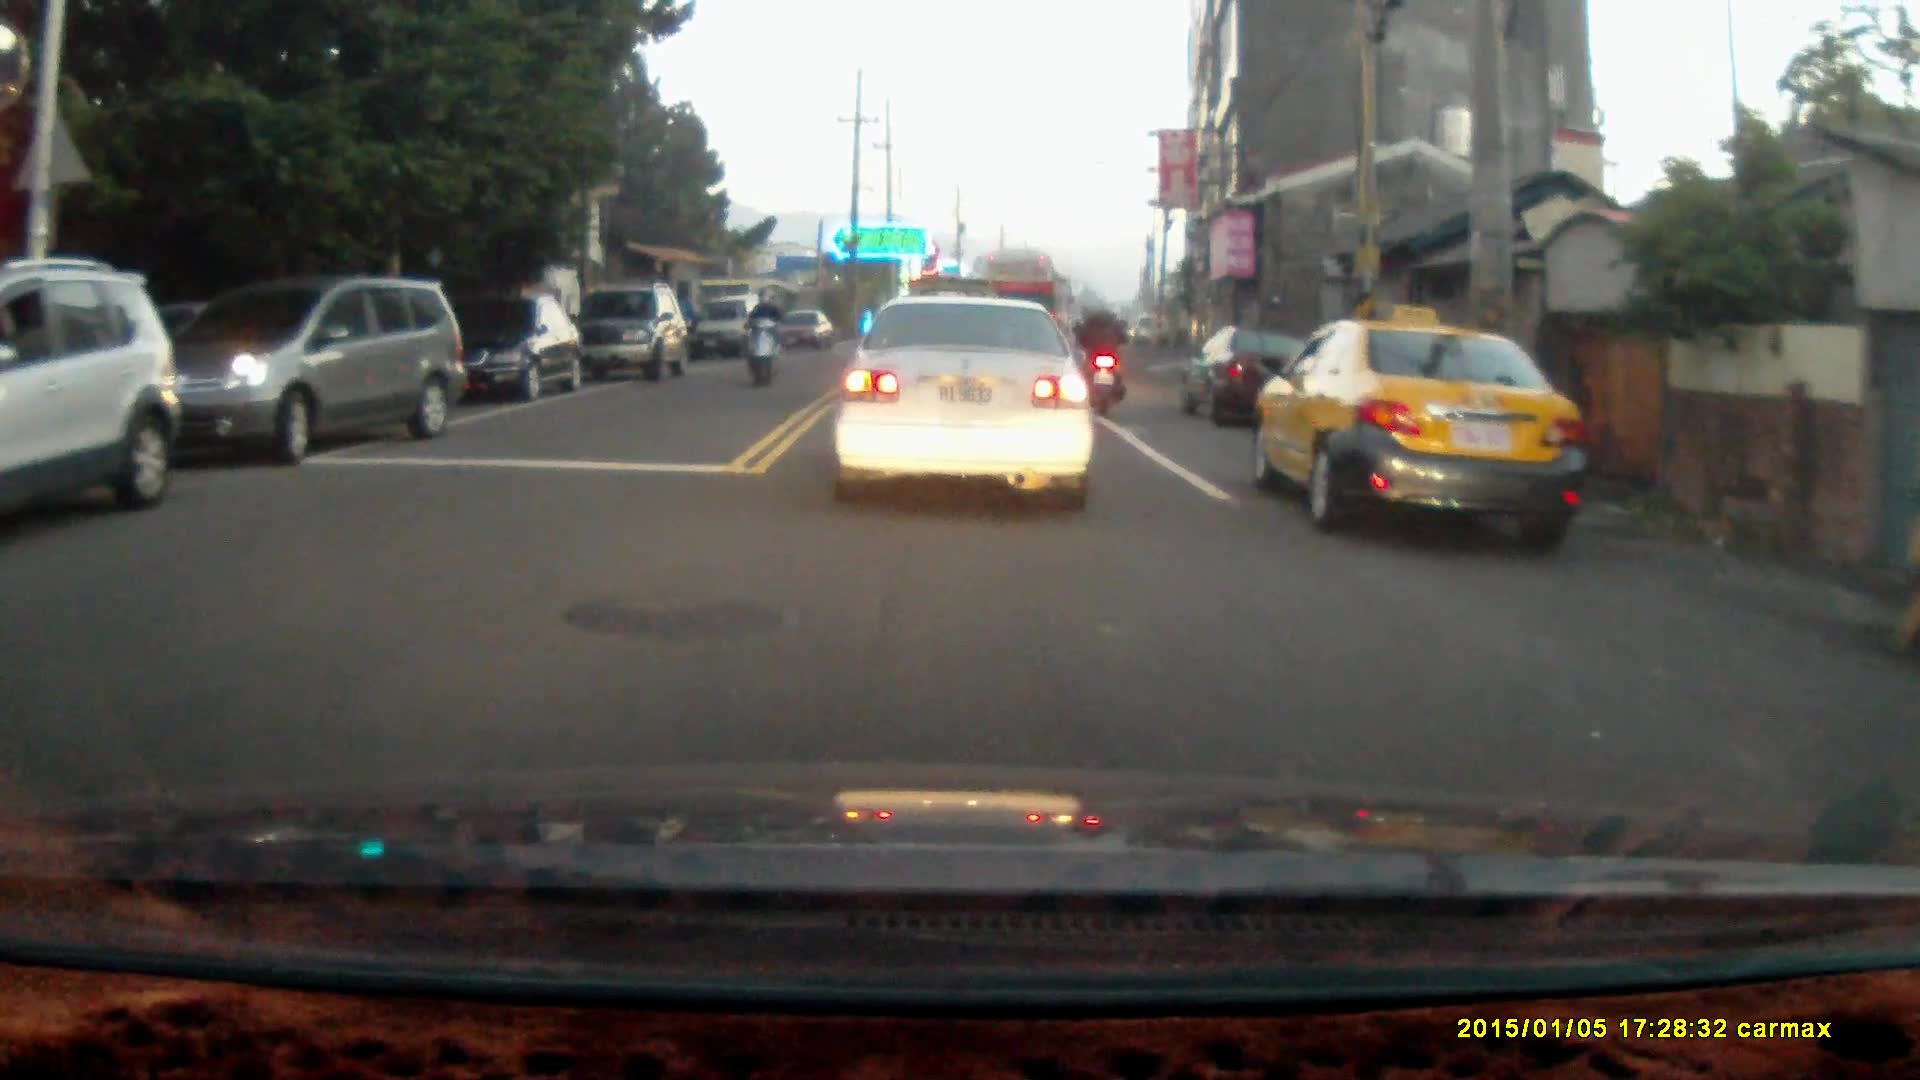rider: (1076, 291, 1134, 418), (742, 285, 782, 387)
vehicle: (1258, 322, 1590, 553), (149, 277, 466, 470), (834, 284, 1111, 502), (1, 265, 179, 530), (452, 292, 585, 403), (577, 286, 692, 381), (701, 291, 784, 356)
